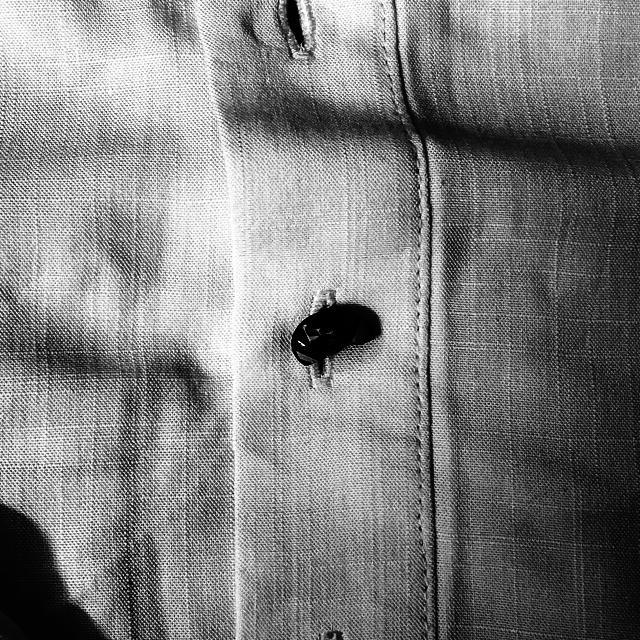Broken_button: (284, 286, 396, 375)
